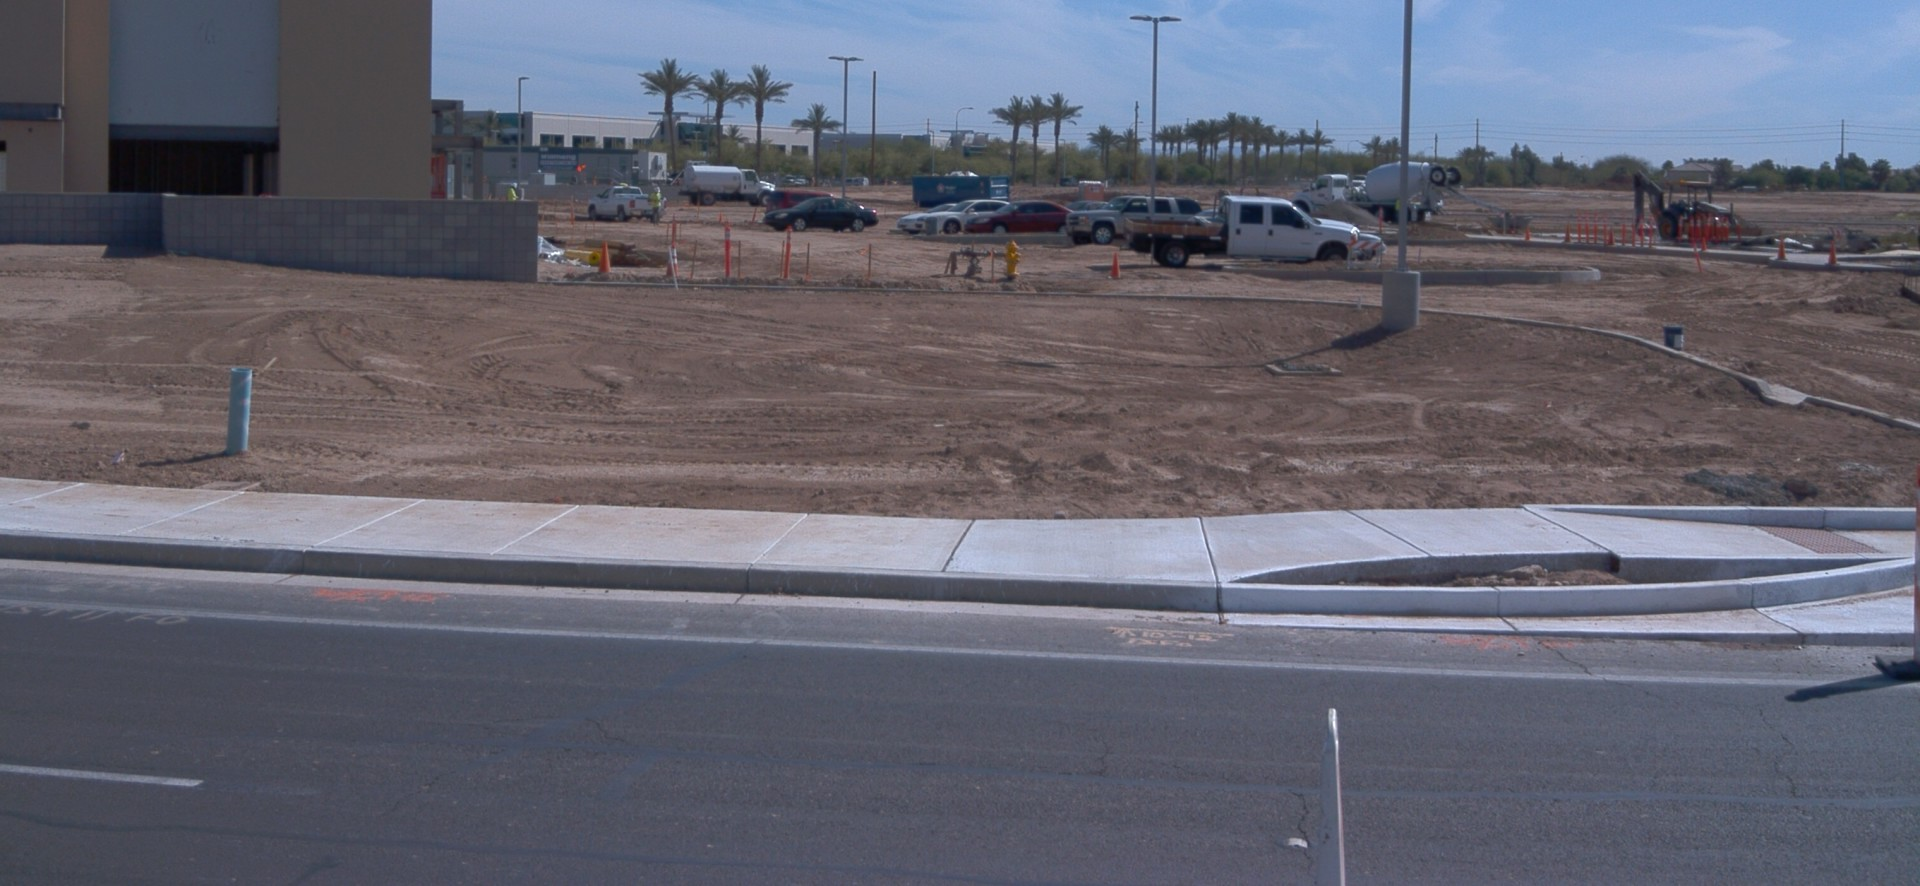TYPE_PEDESTRIAN: (646, 188, 662, 227), (506, 181, 524, 202), (1390, 193, 1399, 225)
TYPE_VEHICLE: (1123, 196, 1360, 270), (1291, 161, 1517, 228), (1631, 165, 1757, 247), (1065, 194, 1204, 247), (763, 194, 880, 233), (961, 195, 1073, 235), (680, 165, 777, 210), (913, 195, 1009, 234), (586, 183, 670, 223), (895, 203, 957, 235), (1339, 233, 1390, 263), (765, 191, 834, 213), (1217, 182, 1264, 202), (1066, 195, 1107, 212), (1188, 210, 1229, 220), (1351, 174, 1365, 187)
